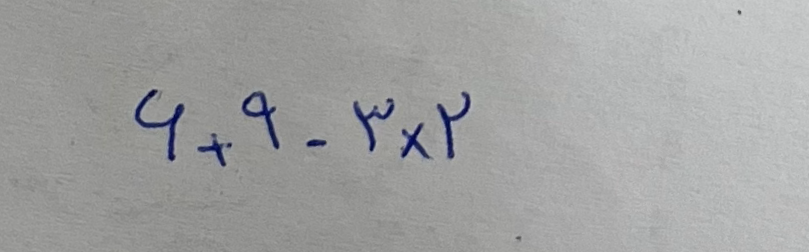character: (134, 88, 184, 165), (438, 90, 473, 161), (243, 89, 279, 152), (352, 98, 395, 150), (197, 130, 234, 167), (401, 117, 431, 162), (304, 133, 327, 150)
